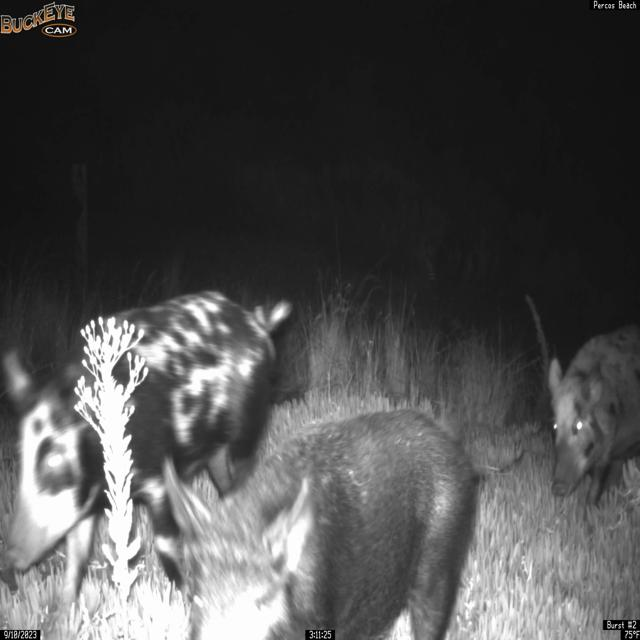pig: (0, 287, 293, 628)
